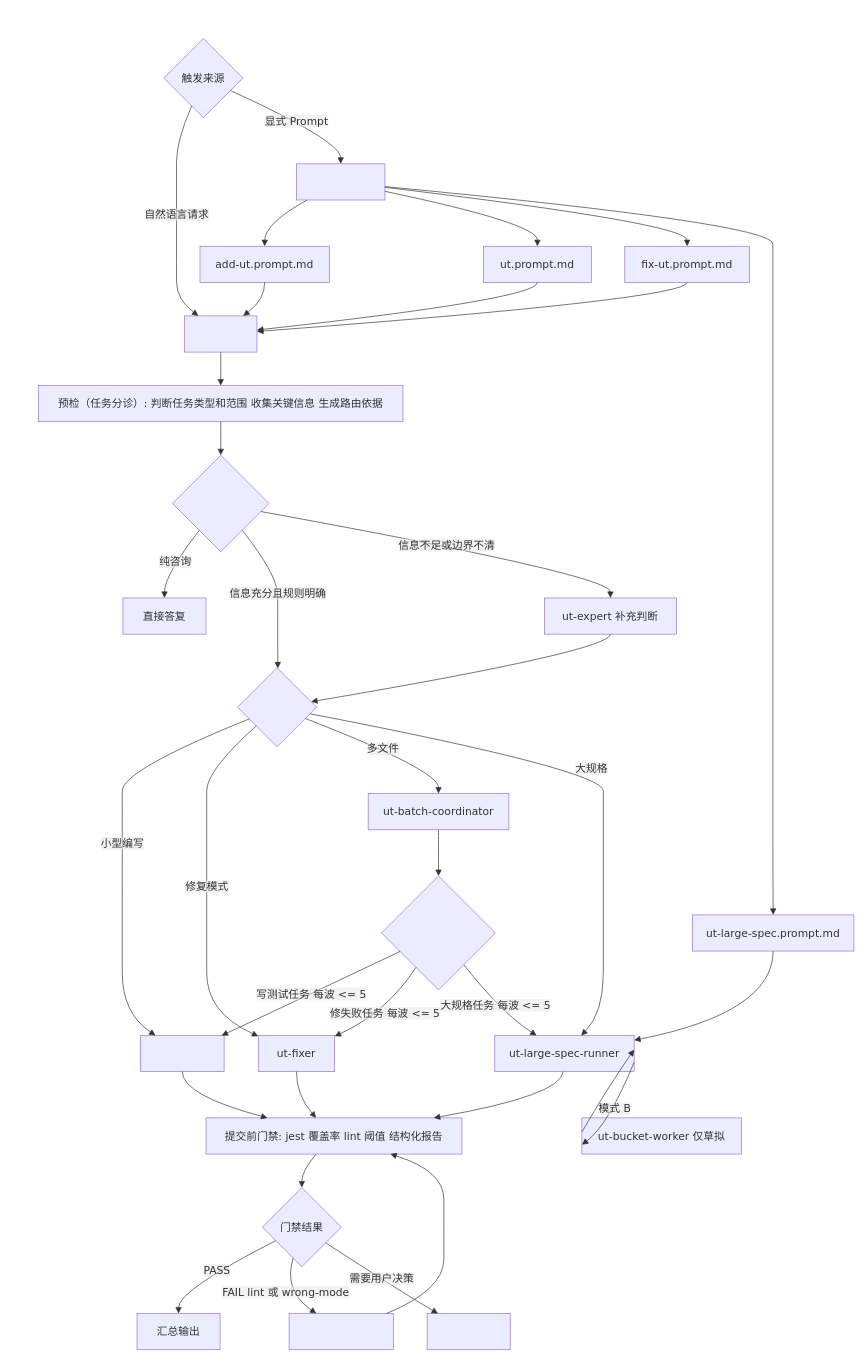
The diagram is 866 pixels wide and 1361 high, and some of its shapes have lost their labels. Each missing label, with the box of its shape:
UT 提示词: (296, 163, 385, 200)
ut-writer: (140, 1035, 224, 1072)
一次自动重试: (288, 1313, 394, 1350)
上报用户: (426, 1313, 510, 1350)
主代理: (184, 315, 257, 352)
执行模式: (237, 667, 317, 747)
批量任务分桶: (381, 875, 495, 990)
预检后分流: (172, 455, 269, 552)
